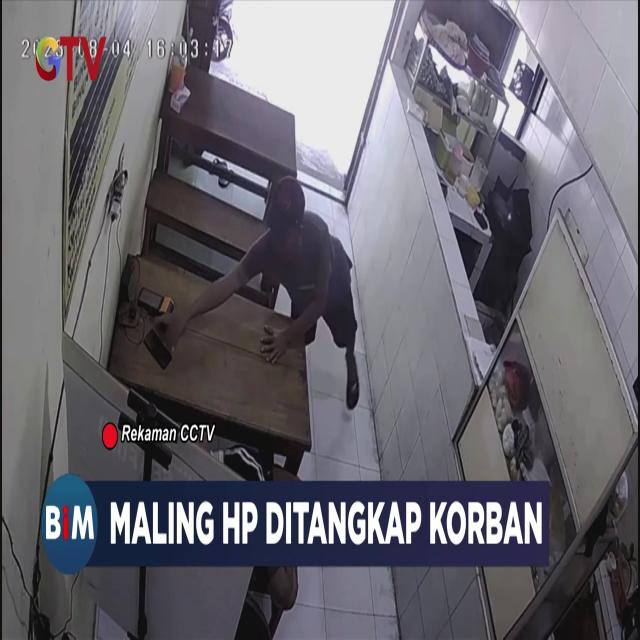pencurian: (148, 171, 362, 413)
